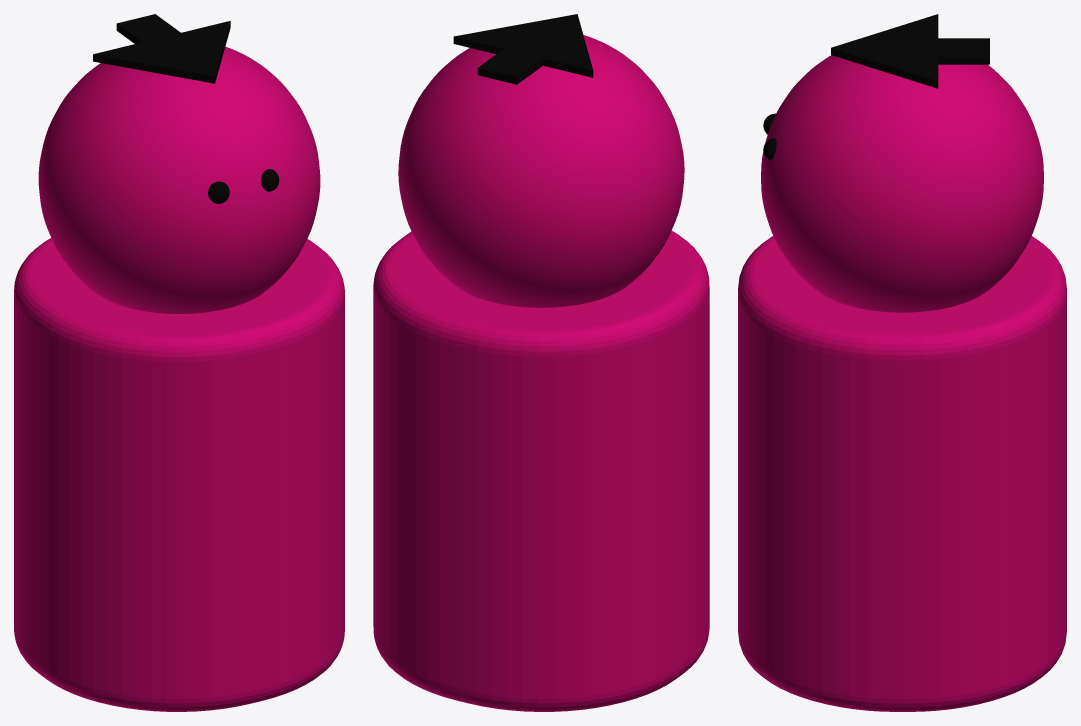
3 renders of one model, left to right at view 1: azimuth 30°, elevation 25°; view 2: azimuth 150°, elevation 25°; view 3: azimuth 270°, elevation 25°, orthographic.
Visible parts, largest first — view 1: Cube.004_Cube.014_Material.004, Cube.004_Cube.014_SVGMat; view 2: Cube.004_Cube.014_Material.004, Cube.004_Cube.014_SVGMat; view 3: Cube.004_Cube.014_Material.004, Cube.004_Cube.014_SVGMat.
Part boxes in pixels (box(x1,y1,x2,y2)): Cube.004_Cube.014_Material.004: box(14, 46, 344, 711); Cube.004_Cube.014_SVGMat: box(93, 14, 279, 203); Cube.004_Cube.014_Material.004: box(373, 35, 709, 711); Cube.004_Cube.014_SVGMat: box(453, 14, 593, 84); Cube.004_Cube.014_Material.004: box(738, 55, 1066, 711); Cube.004_Cube.014_SVGMat: box(763, 14, 989, 160).
Size of the model in its own units: 0.2392 by 0.4819 by 0.2392.
